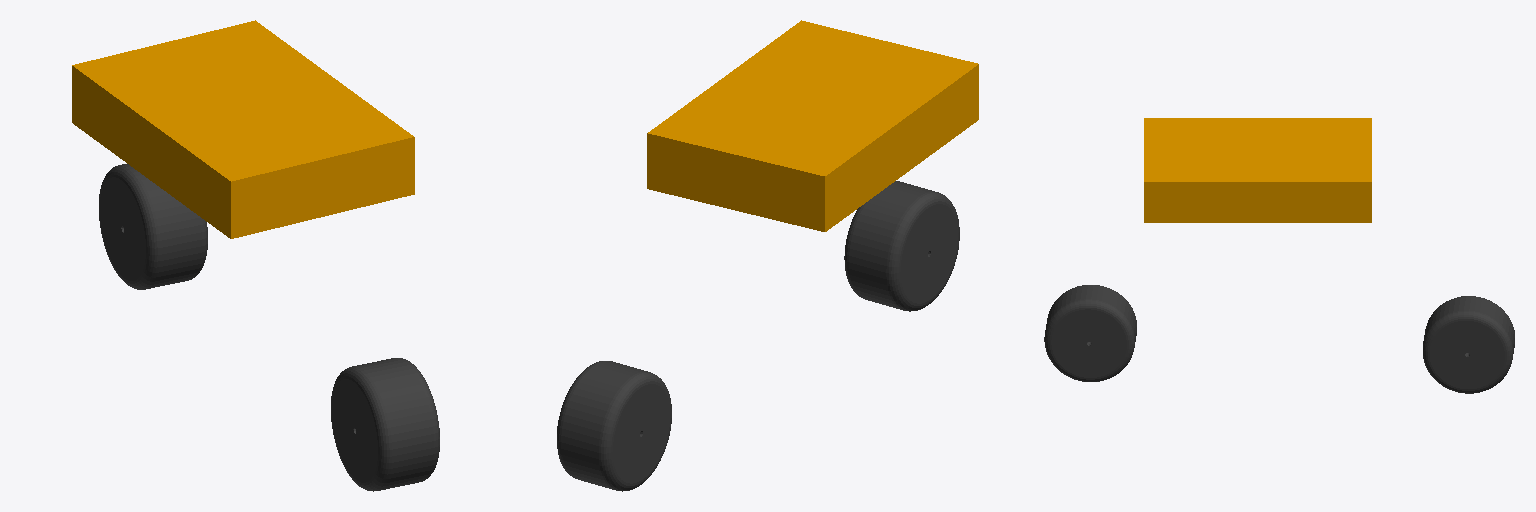
URDF robot description (owr_bluetounge_tf):
<robot
  name="owr_bluetounge_tf">
  <link name="base_link">
        <visual>
          <geometry>
            <box size=" .4   .6 .12"/>
          </geometry>
        </visual>
    </link>
  <joint name="base_to_bogey" type="fixed">
      <parent link="base_link"/>
      <child link="Bogey"/>
      <origin xyz=".2 0 0" rpy="0 0 1.5"/>
      <axis xyz="0 0 1" />
  </joint>
  <link
    name="Bogey">
    
    <inertial>
      <origin
        xyz="-0.234241553626799 0.177831123348543 -0.0667373603191976"
        rpy="0 0 0" />
      <mass
        value="2.3410771686329" />
      <inertia
        ixx="0.0270924352882268"
        ixy="-0.0071489301852542"
        ixz="-0.000125089538061626"
        iyy="0.187628876498878"
        iyz="-0.000193196871273209"
        izz="0.211224177676753" />
    </inertial>
    <visual>
      <origin
        xyz="-.25 0.2 -0.3"
        rpy="0 0 0" />
      <geometry>
        <mesh
          filename="package://owr_bluetounge_tf/meshes/Bogey.STL" />
      </geometry>
      <material
        name="">
        <color
          rgba="1 0.949019607843137 0.909803921568627 1" />
      </material>
    </visual>
    <collision>
      <origin
        xyz="0 0 0"
        rpy="0 0 0" />
      <geometry>
        <mesh
          filename="package://owr_bluetounge_tf/meshes/Bogey.STL" />
      </geometry>
    </collision>
  </link>
  <link
    name="NotWheels">
    <inertial>
      <origin
        xyz="0.0392455926196791 -0.278821591054246 -0.0775044581371589"
        rpy="0 0 0" />
      <mass
        value="10.5132080311319" />
      <inertia
        ixx="0.219834599370167"
        ixy="-0.0137292813655773"
        ixz="0.00390845019016002"
        iyy="1.60813882713241"
        iyz="-0.00857682818433677"
        izz="1.72318676277576" />
    </inertial>
    <visual>
      <origin
        xyz="0 0 0"
        rpy="0 0 0" />
      <geometry>
        <mesh
          filename="package://owr_bluetounge_tf/meshes/NotWheels.STL" />
      </geometry>
      <material
        name="">
        <color
          rgba="0.752941176470588 0.752941176470588 0.752941176470588 1" />
      </material>
    </visual>
    <collision>
      <origin
        xyz="0 0 0"
        rpy="0 0 0" />
      <geometry>
        <mesh
          filename="package://owr_bluetounge_tf/meshes/NotWheels.STL" />
      </geometry>
    </collision>
  </link>
  <joint name="base_to_notwheels" type="fixed">
      <parent link="Bogey"/>
      <child link="NotWheels"/>
  </joint>
  <link
    name="AWheel">
    <inertial>
      <origin
        xyz="-0.064 0 0"
        rpy="0 0 0" />
      <mass
        value="1.86318344508723" />
      <inertia
        ixx="0.0179963942930543"
        ixy="-3.13334528772355E-18"
        ixz="1.91577009765144E-19"
        iyy="0.0131272204160217"
        iyz="-4.93038065763132E-32"
        izz="0.0131272204160217" />
    </inertial>
    <visual>
      <origin
        xyz="0 0 0"
        rpy="0 0 0" />
      <geometry>
        <mesh
          filename="package://owr_bluetounge_tf/meshes/AWheel.STL" />
      </geometry>
      <material
        name="">
        <color
          rgba="0.294117647058824 0.294117647058824 0.294117647058824 1" />
      </material>
    </visual>
    <collision>
      <origin
        xyz="0 0 0"
        rpy="0 0 0" />
      <geometry>
        <mesh
          filename="package://owr_bluetounge_tf/meshes/AWheel.STL" />
      </geometry>
    </collision>
  </link>
  <joint
    name="AAxle"
    type="continuous">
    <origin
      xyz="-0.45037 0.17736 -0.44798"
      rpy="-3.1416 6.123E-17 1.5708" />
    <parent
      link="NotWheels" />
    <child
      link="AWheel" />
    <axis
      xyz="0 0 1" />
  </joint>
  <link
    name="BWheel">
    <inertial>
      <origin
        xyz="-0.0640000000000001 -6.93889390390723E-18 0"
        rpy="0 0 0" />
      <mass
        value="1.86318344508723" />
      <inertia
        ixx="0.0179963942930543"
        ixy="-2.95106269390458E-18"
        ixz="1.91577009765147E-19"
        iyy="0.0131272204160217"
        iyz="-4.93038065763132E-32"
        izz="0.0131272204160217" />
    </inertial>
    <visual>
      <origin
        xyz="0 0 0"
        rpy="0 0 0" />
      <geometry>
        <mesh
          filename="package://owr_bluetounge_tf/meshes/BWheel.STL" />
      </geometry>
      <material
        name="">
        <color
          rgba="0.294117647058824 0.294117647058824 0.294117647058824 1" />
      </material>
    </visual>
    <collision>
      <origin
        xyz="0 0 0"
        rpy="0 0 0" />
      <geometry>
        <mesh
          filename="package://owr_bluetounge_tf/meshes/BWheel.STL" />
      </geometry>
    </collision>
  </link>
  <joint
    name="BAxle"
    type="continuous">
    <origin
      xyz="0.04963 0.17736 -0.44798"
      rpy="-3.1416 6.123E-17 1.5708" />
    <parent
      link="NotWheels" />
    <child
      link="BWheel" />
    <axis
      xyz="0 0 1" />
  </joint>
  <link
    name="CWheel">
    <inertial>
      <origin
        xyz="-0.064 0 0"
        rpy="0 0 0" />
      <mass
        value="1.86318344508723" />
      <inertia
        ixx="0.0179963942930543"
        ixy="-4.80802807486151E-18"
        ixz="1.9157701117815E-19"
        iyy="0.0131272204160217"
        iyz="-2.46519032881566E-32"
        izz="0.0131272204160217" />
    </inertial>
    <visual>
      <origin
        xyz="0 0 0"
        rpy="0 0 0" />
      <geometry>
        <mesh
          filename="package://owr_bluetounge_tf/meshes/CWheel.STL" />
      </geometry>
      <material
        name="">
        <color
          rgba="0.294117647058824 0.294117647058824 0.294117647058824 1" />
      </material>
    </visual>
    <collision>
      <origin
        xyz="0 0 0"
        rpy="0 0 0" />
      <geometry>
        <mesh
          filename="package://owr_bluetounge_tf/meshes/CWheel.STL" />
      </geometry>
    </collision>
  </link>
  <joint
    name="CAxle"
    type="continuous">
    <origin
      xyz="0.55021 0.17736 -0.44798"
      rpy="3.1416 6.123E-17 1.5708" />
    <parent
      link="NotWheels" />
    <child
      link="CWheel" />
    <axis
      xyz="0 0 1" />
  </joint>
</robot>

--- Render facts (derived) ---
The picture shows the robot from 3 angles, left to right: view 1: azimuth 30°, elevation 25°; view 2: azimuth 150°, elevation 25°; view 3: azimuth 270°, elevation 25°; orthographic projection.
Robot: owr_bluetounge_tf — 6 links, 5 joints (3 continuous, 2 fixed); root link base_link; default pose: all joints at 0.
Visible links, largest first — view 1: base_link, AWheel, CWheel; view 2: base_link, CWheel, AWheel; view 3: base_link, CWheel, AWheel.
Boxes of the visible links, box(x1,y1,x2,y2) form: base_link: box(72, 20, 414, 238); AWheel: box(331, 358, 439, 491); CWheel: box(99, 164, 207, 289); base_link: box(647, 20, 978, 231); CWheel: box(557, 361, 671, 491); AWheel: box(844, 181, 959, 311); base_link: box(1144, 118, 1371, 222); CWheel: box(1423, 296, 1514, 393); AWheel: box(1044, 285, 1136, 381).
Size in the robot's own frame: 0.4 by 1.24 by 0.6279 metres.
Meshes: 5 distinct files referenced, 2 mesh visuals loaded (2 binary STL); not drawn: 3 (reference not matched to a file when rendering).
